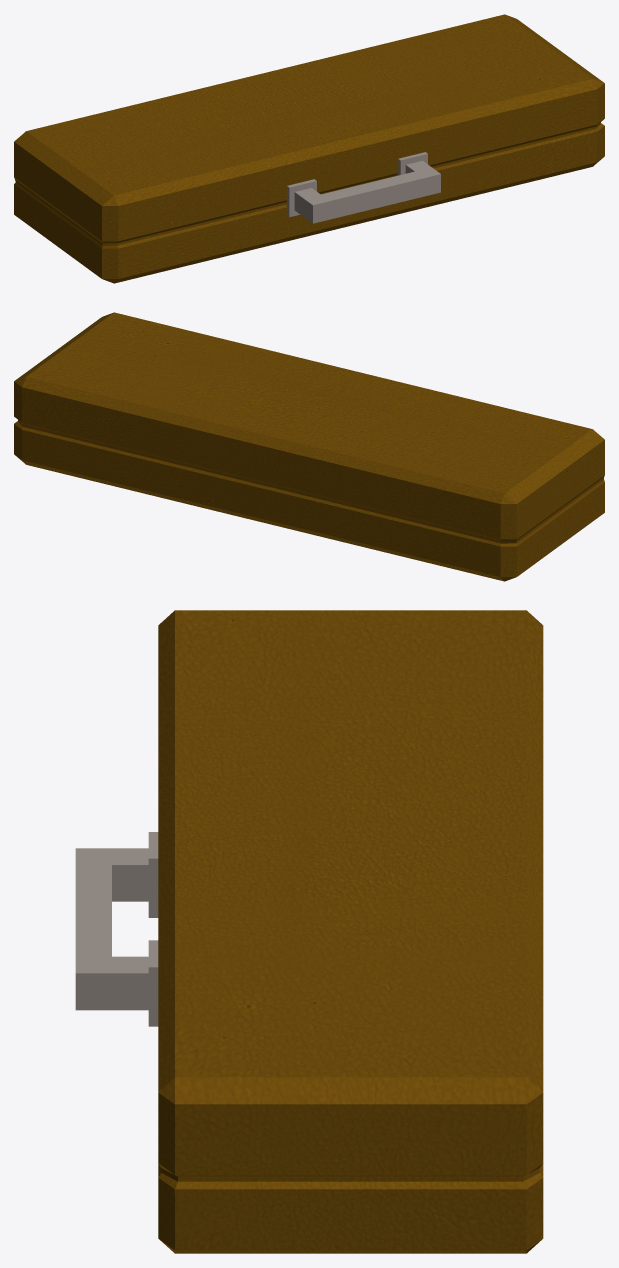
Rendered from ClosedSuitcase.glb.
3 views of the same model, one above another, from view 1: azimuth 30°, elevation 25°; view 2: azimuth 150°, elevation 25°; view 3: azimuth 270°, elevation 25° (orthographic). The views are drawn at different scales.
Visible parts, largest first — view 1: suitcaseClosedBody_Mesh, suitcaseClosedHandle_Mesh; view 2: suitcaseClosedBody_Mesh; view 3: suitcaseClosedBody_Mesh, suitcaseClosedHandle_Mesh.
Boxes of the visible parts, <box> form: suitcaseClosedBody_Mesh: <box>14,14,604,283</box>; suitcaseClosedHandle_Mesh: <box>286,152,440,223</box>; suitcaseClosedBody_Mesh: <box>14,312,604,581</box>; suitcaseClosedBody_Mesh: <box>158,610,543,1253</box>; suitcaseClosedHandle_Mesh: <box>75,832,158,1026</box>.
Size of the model in its own units: 4.72 by 0.7892 by 1.9.
2 materials, 2 textured.
